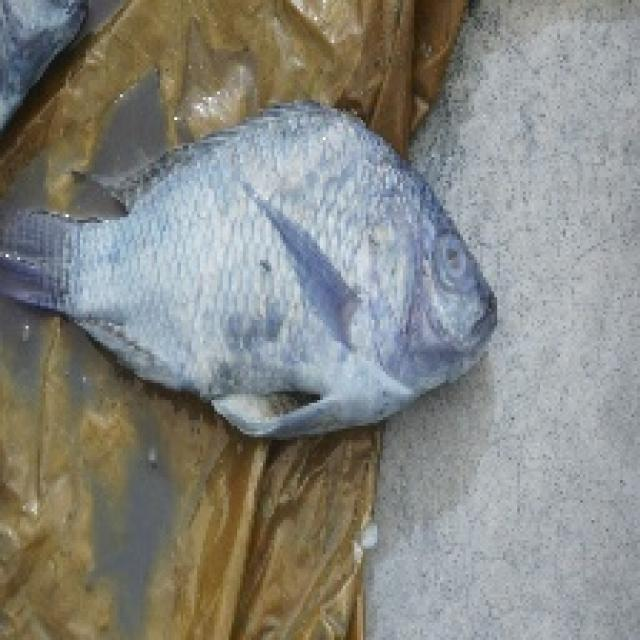Non-Fresh: (118, 117, 516, 440)
